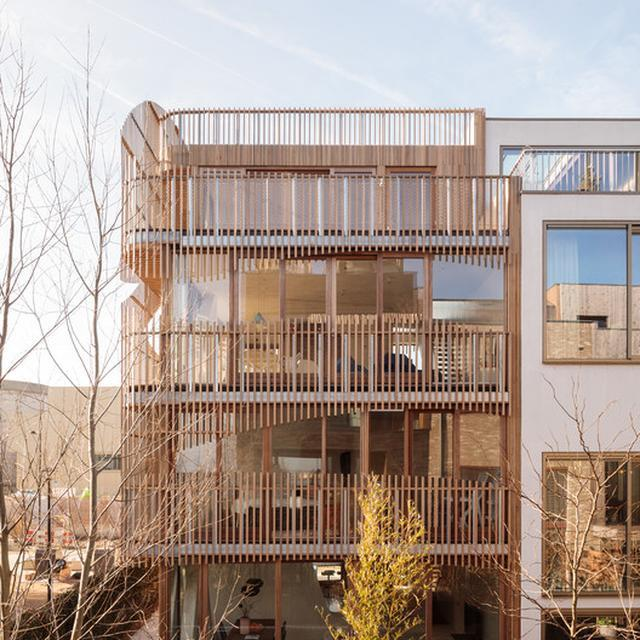building: (113, 93, 519, 640)
